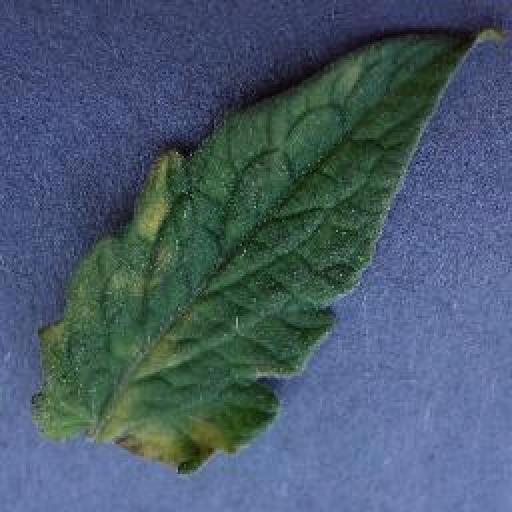disease_tomato: (35, 24, 484, 476)
